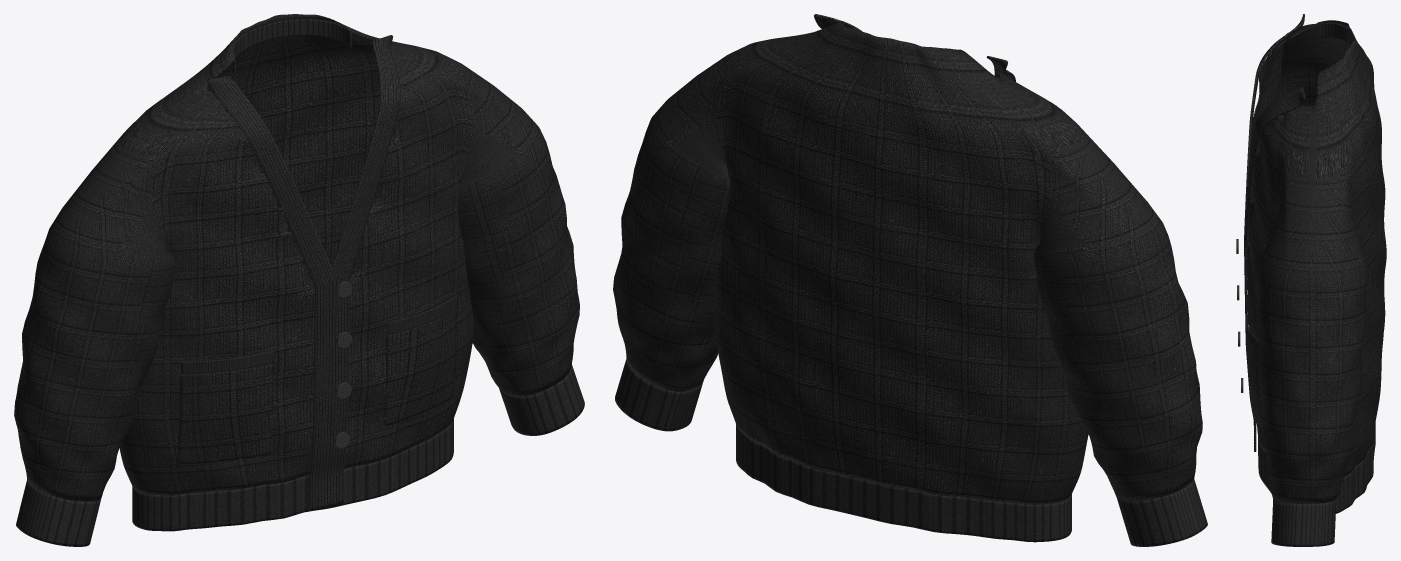
Rendered from NF011-realism-v1.glb.
The picture shows the model from 3 angles, left to right: view 1: azimuth 30°, elevation 25°; view 2: azimuth 150°, elevation 25°; view 3: azimuth 270°, elevation 25°; orthographic projection. The views are drawn at different scales.
Visible parts, largest first — view 1: Charcoal_windowpane_wool_PBR, Dense_wool_rib_PBR, Matte_charcoal_horn; view 2: Charcoal_windowpane_wool_PBR, Dense_wool_rib_PBR; view 3: Charcoal_windowpane_wool_PBR, Dense_wool_rib_PBR.
Part boxes in pixels (x1,y1,x2,y2): Charcoal_windowpane_wool_PBR: [14, 14, 579, 501]; Dense_wool_rib_PBR: [16, 19, 584, 546]; Matte_charcoal_horn: [334, 281, 352, 448]; Charcoal_windowpane_wool_PBR: [613, 21, 1202, 504]; Dense_wool_rib_PBR: [615, 14, 1207, 546]; Charcoal_windowpane_wool_PBR: [1246, 20, 1386, 503]; Dense_wool_rib_PBR: [1244, 14, 1375, 546].
Bounding box in the file's own units: 1.01 × 0.7869 × 0.2593.
3 materials, 2 textured.
